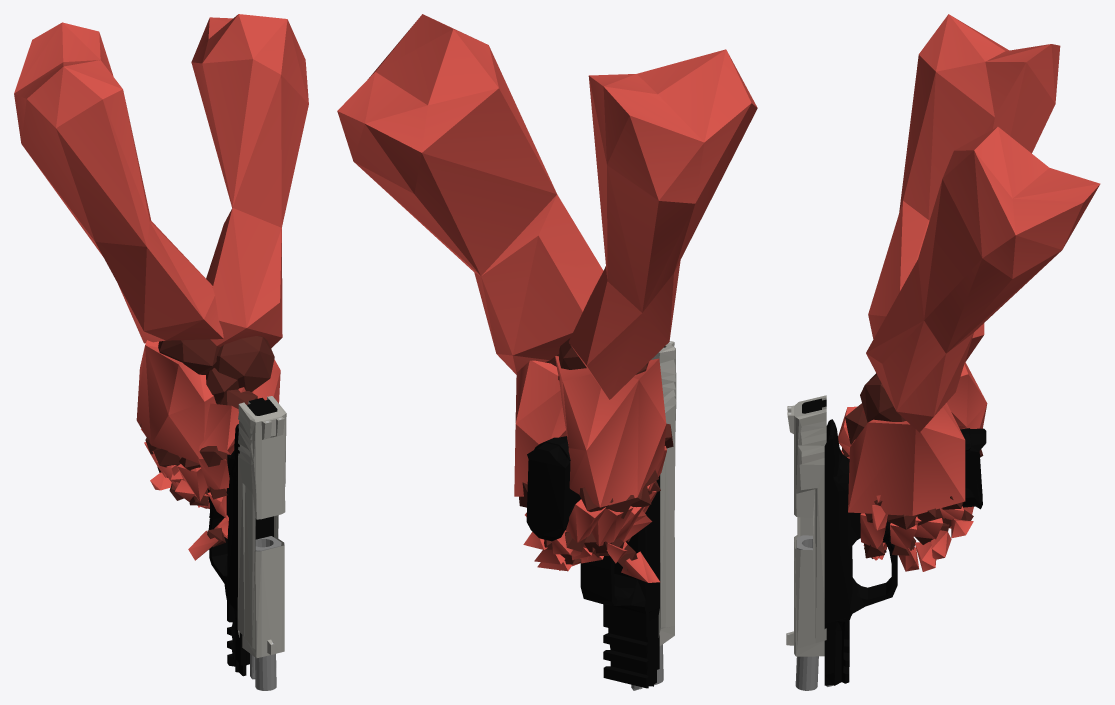
File: M&P9shoot3LowP.obj
3 views of the same model, side by side, from view 1: azimuth 30°, elevation 25°; view 2: azimuth 150°, elevation 25°; view 3: azimuth 270°, elevation 25° (orthographic). The views are drawn at different scales.
Visible parts, largest first — view 1: Beta_Surface.001_Beta_Surface.002, slide_平面.002, Beta_Joints.001_Beta_Joints.002, triger_平面.001, triger.001_平面.003; view 2: Beta_Surface.001_Beta_Surface.002, triger_平面.001, slide_平面.002, Beta_Joints.001_Beta_Joints.002; view 3: Beta_Surface.001_Beta_Surface.002, triger_平面.001, slide_平面.002, Beta_Joints.001_Beta_Joints.002, triger.001_平面.003.
Part boxes in pixels (x1,y1,x2,y2): Beta_Surface.001_Beta_Surface.002: (14,14,308,560); slide_平面.002: (237,396,286,658); Beta_Joints.001_Beta_Joints.002: (140,336,274,547); triger_平面.001: (207,424,273,679); triger.001_平面.003: (255,536,281,690); Beta_Surface.001_Beta_Surface.002: (337,14,757,582); triger_平面.001: (526,436,659,690); slide_平面.002: (651,341,676,645); Beta_Joints.001_Beta_Joints.002: (519,338,673,570); Beta_Surface.001_Beta_Surface.002: (838,14,1100,571); triger_平面.001: (824,419,986,686); slide_平面.002: (786,395,826,656); Beta_Joints.001_Beta_Joints.002: (842,373,983,558); triger.001_平面.003: (795,535,818,690).
Size of the model in its own units: 42.47 by 80.26 by 37.62.
